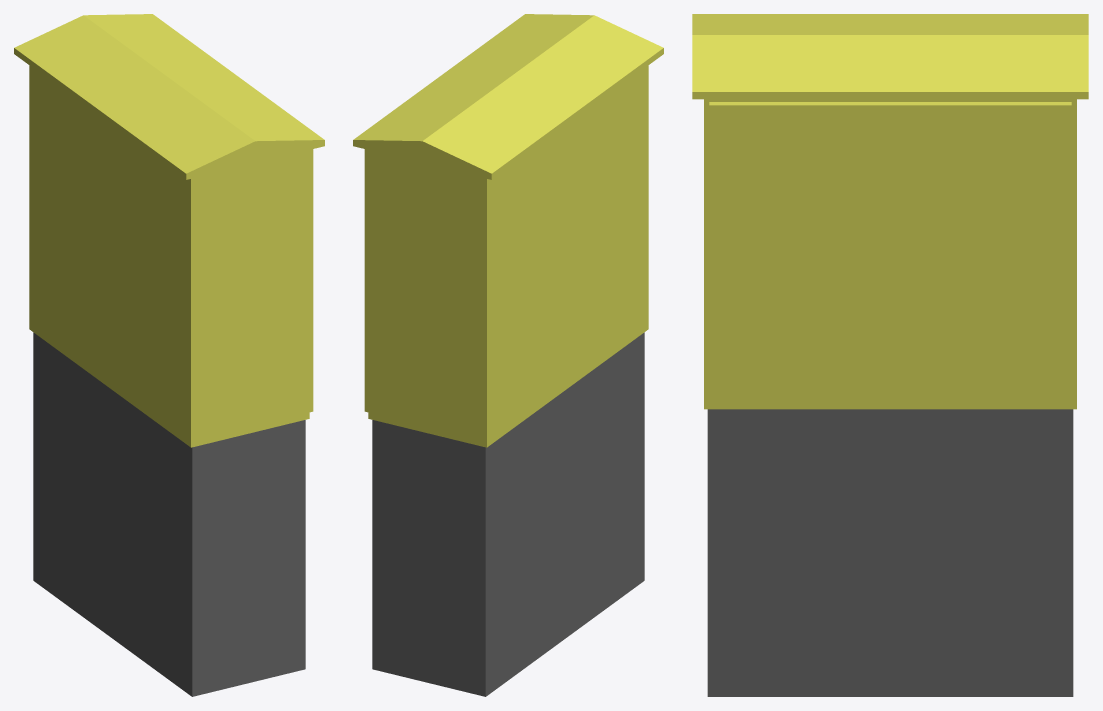
Rendered from utility1.fbx.
The picture shows the model from 3 angles, left to right: view 1: azimuth 30°, elevation 25°; view 2: azimuth 150°, elevation 25°; view 3: azimuth 270°, elevation 25°; orthographic projection. The views are drawn at different scales.
Visible parts, largest first — view 1: ElectricPanel B2; view 2: ElectricPanel B2; view 3: ElectricPanel B2.
Part boxes in pixels (bbox=[...]): ElectricPanel B2: bbox=[14, 14, 324, 696]; ElectricPanel B2: bbox=[353, 14, 663, 696]; ElectricPanel B2: bbox=[692, 14, 1088, 696].
Size of the model in its own units: 46.32 by 175 by 99.54.
